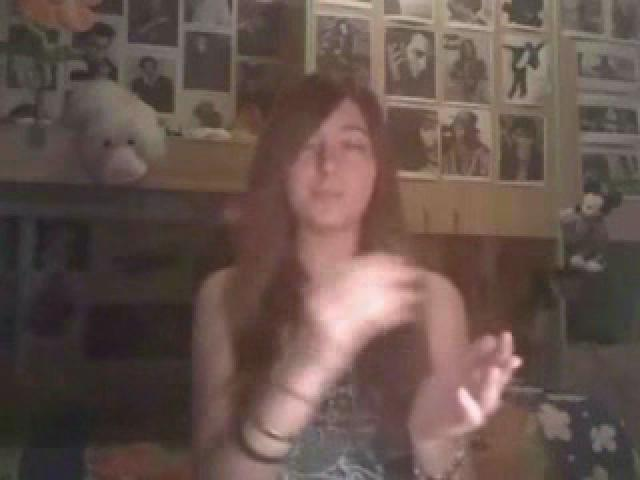F: (203, 92, 468, 480)
